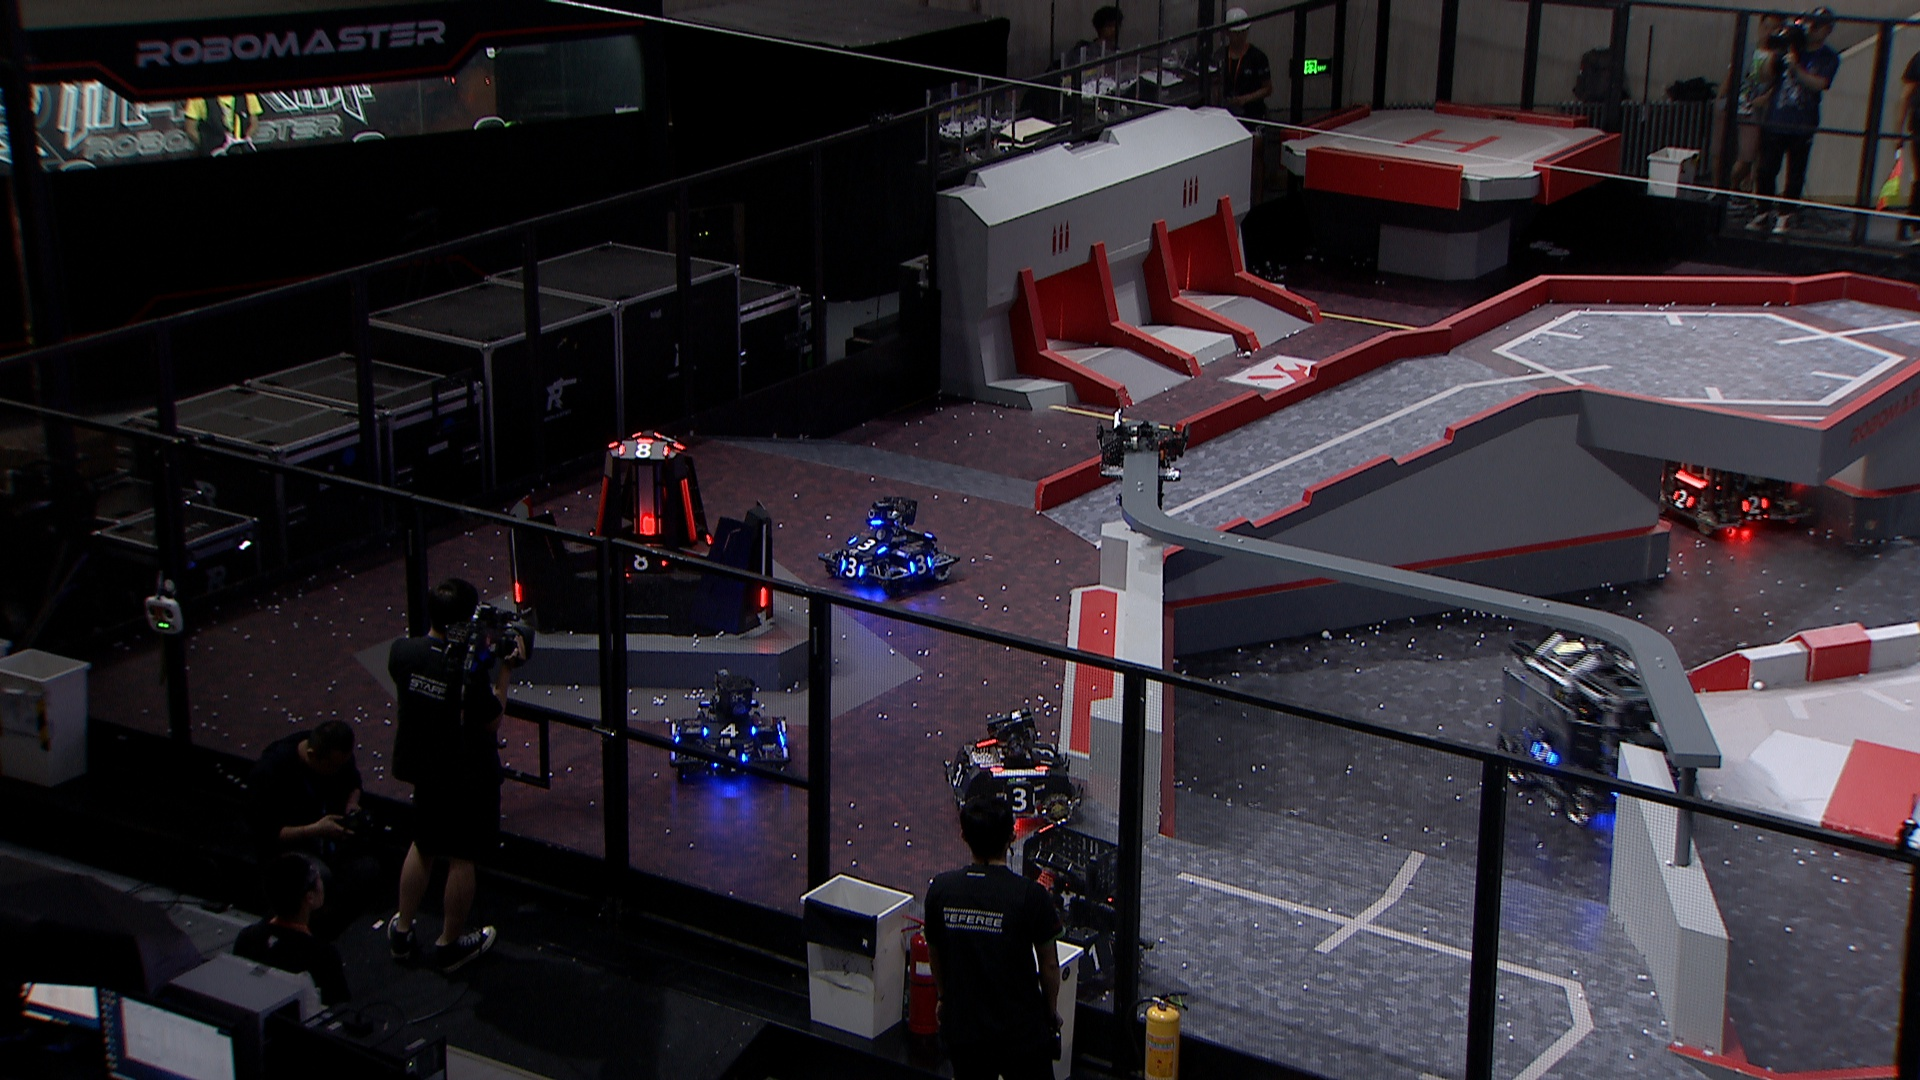armor: (1073, 939, 1120, 972), (679, 480, 698, 543), (593, 472, 609, 541), (618, 550, 665, 571), (712, 746, 746, 773), (618, 440, 667, 458), (703, 723, 754, 737), (1002, 789, 1035, 811), (849, 537, 884, 556), (637, 513, 659, 541), (833, 556, 864, 576), (1673, 487, 1697, 509), (1531, 741, 1553, 764), (945, 760, 963, 787), (1741, 496, 1768, 513), (1031, 742, 1054, 764), (909, 556, 935, 572), (757, 582, 770, 609), (512, 576, 524, 605)
base: (504, 425, 778, 638)
car: (1498, 613, 1695, 835), (1005, 833, 1158, 992), (1646, 406, 1807, 545), (942, 712, 1087, 843), (659, 669, 793, 785), (818, 495, 960, 597)
watcher: (1091, 404, 1192, 524)
